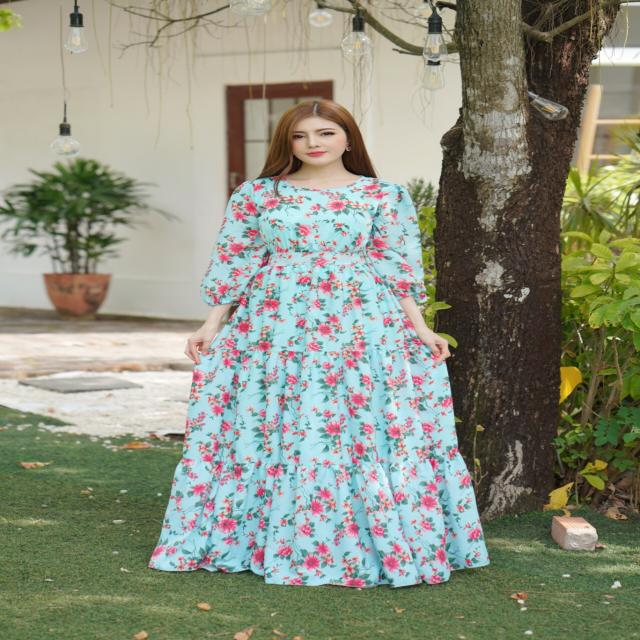clothes: (158, 174, 488, 587)
